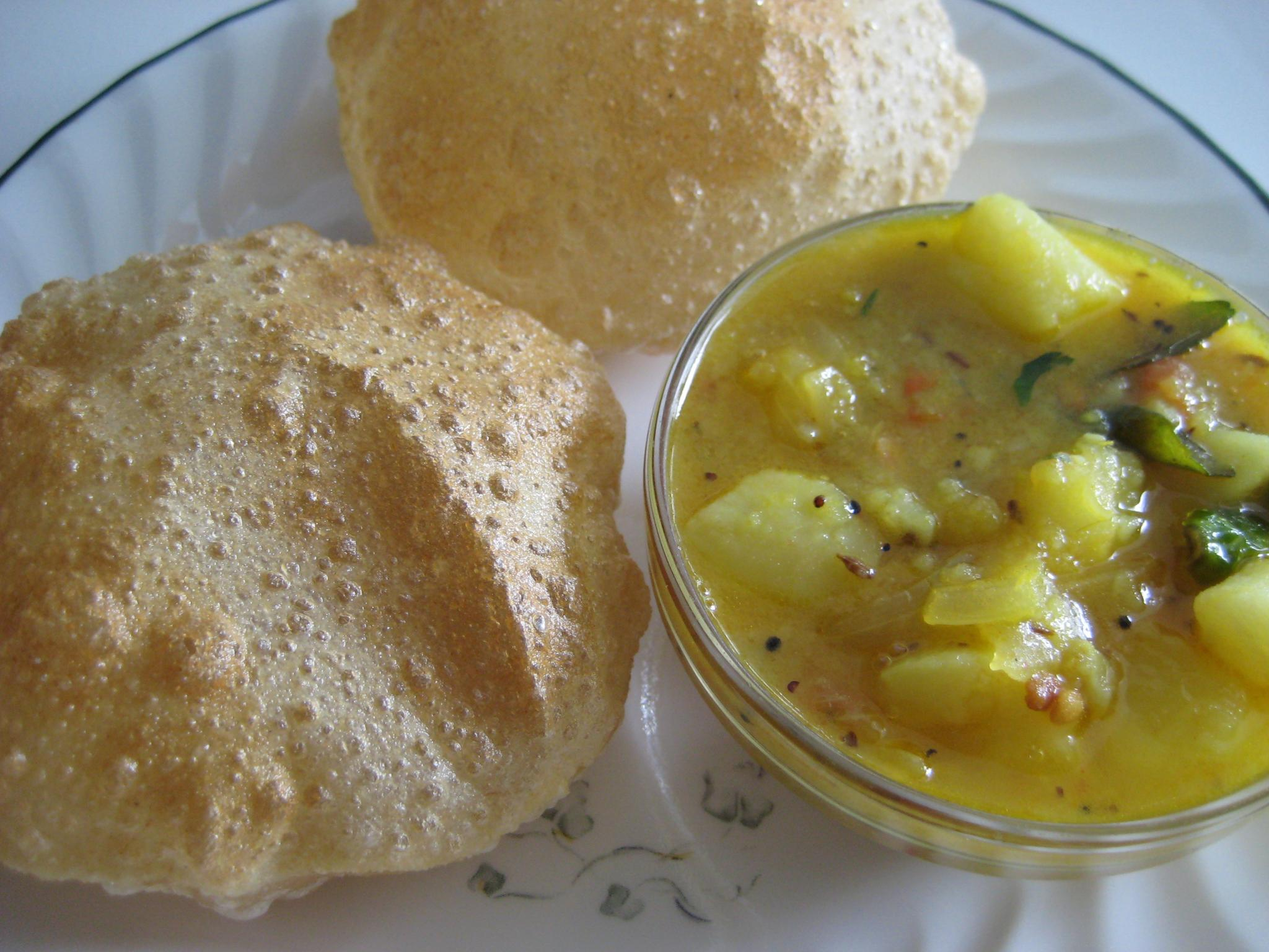puri: (0, 207, 638, 919)
